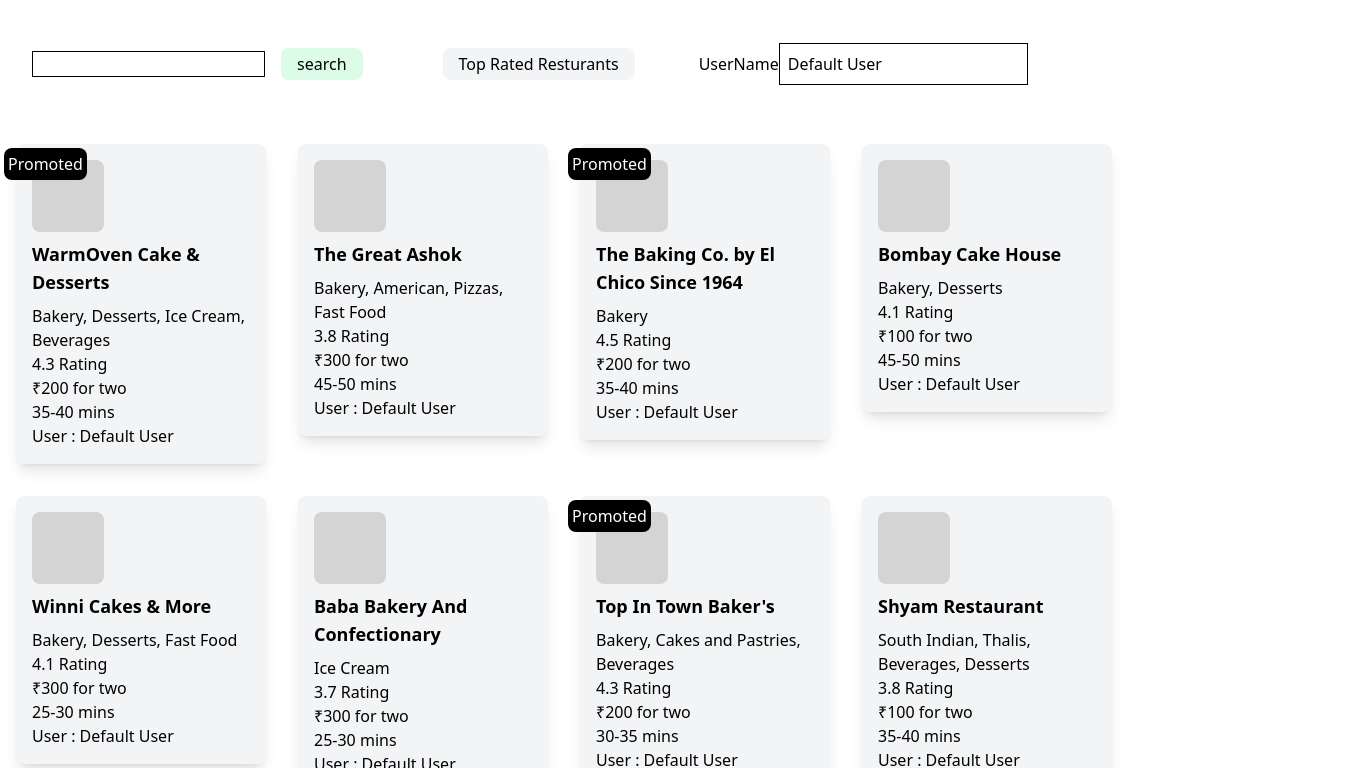
should search Res List for cake text inout
Expected: the button "search" is shown, [281,48,362,80]
Type "cake" into the field with test id "searchInput" at [148, 64], box [32,51,265,77]
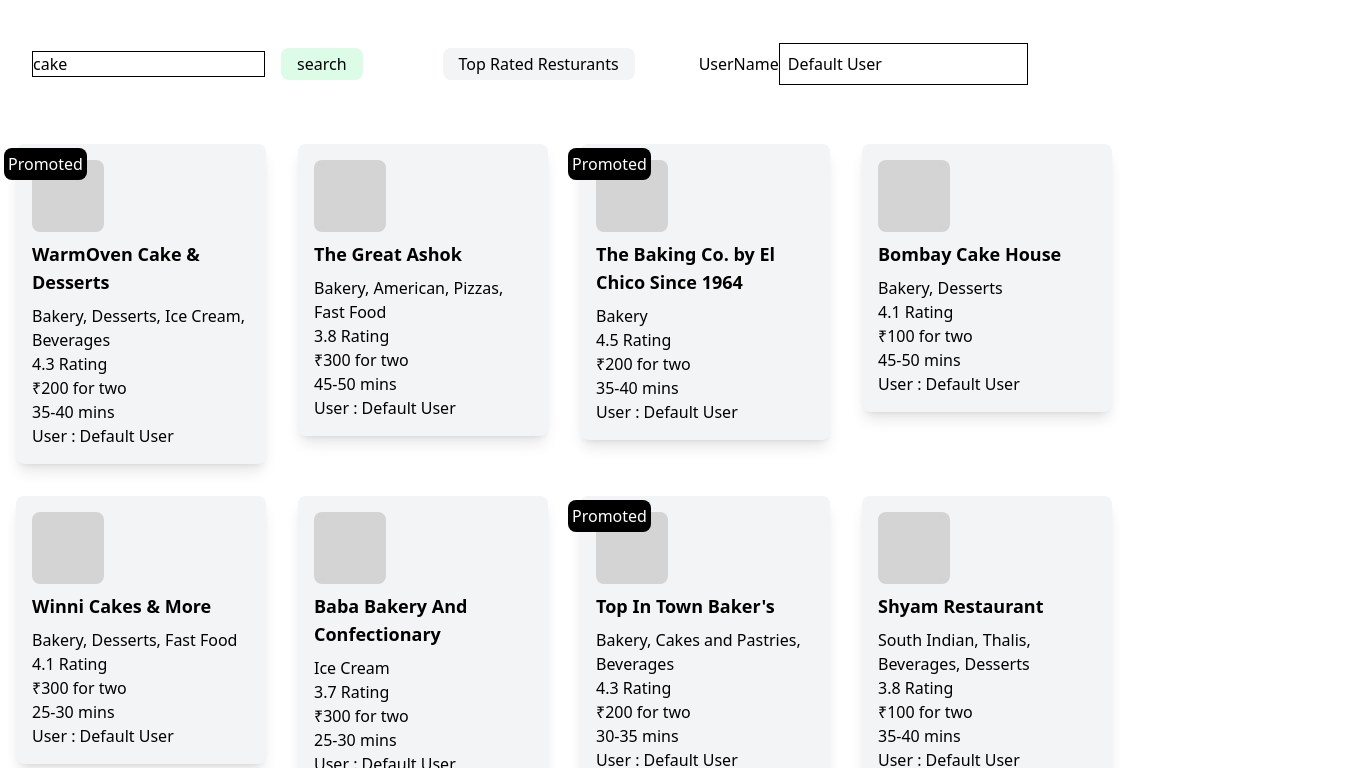
Click the button "search" at [322, 64], box [281,48,362,80]
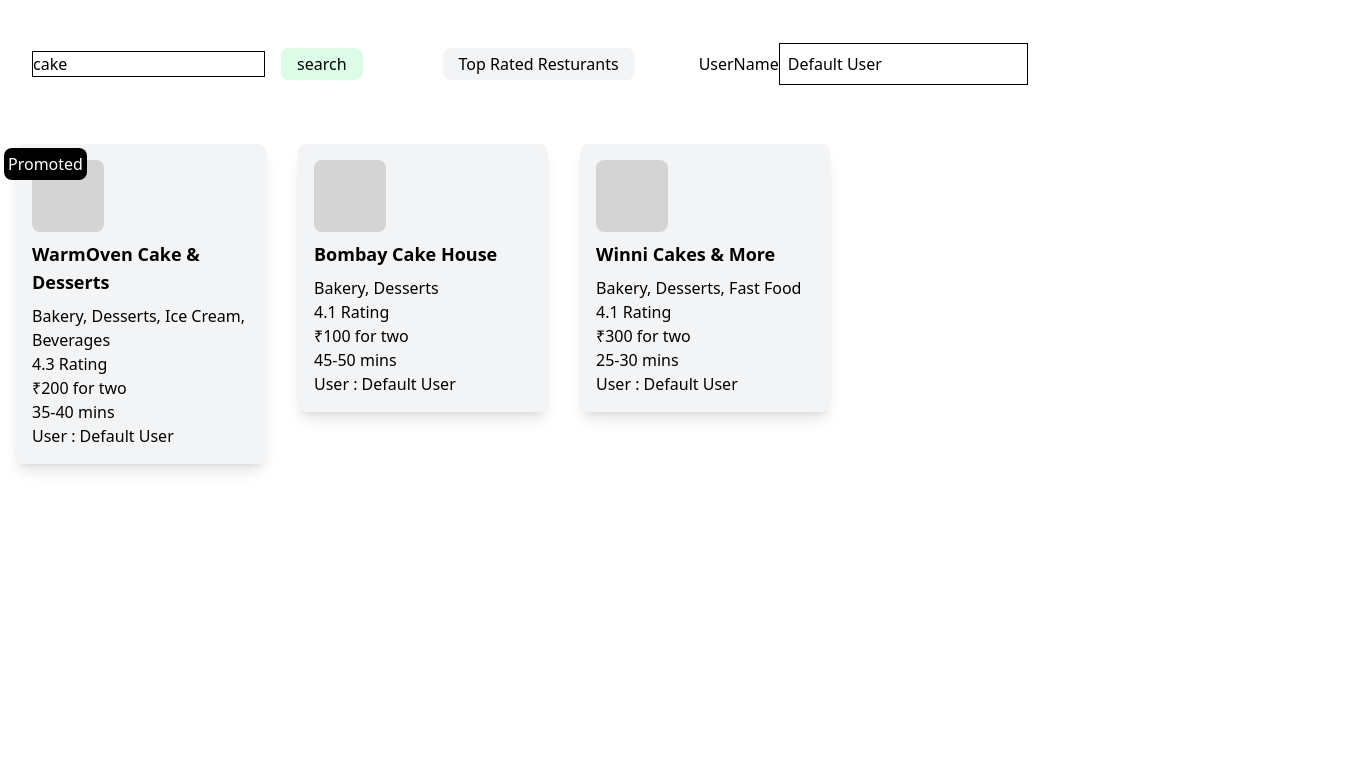
Expected: the number of elements with test id "resCard" is 3, [16,144,266,464]; [298,144,548,412]; [580,144,830,412]
